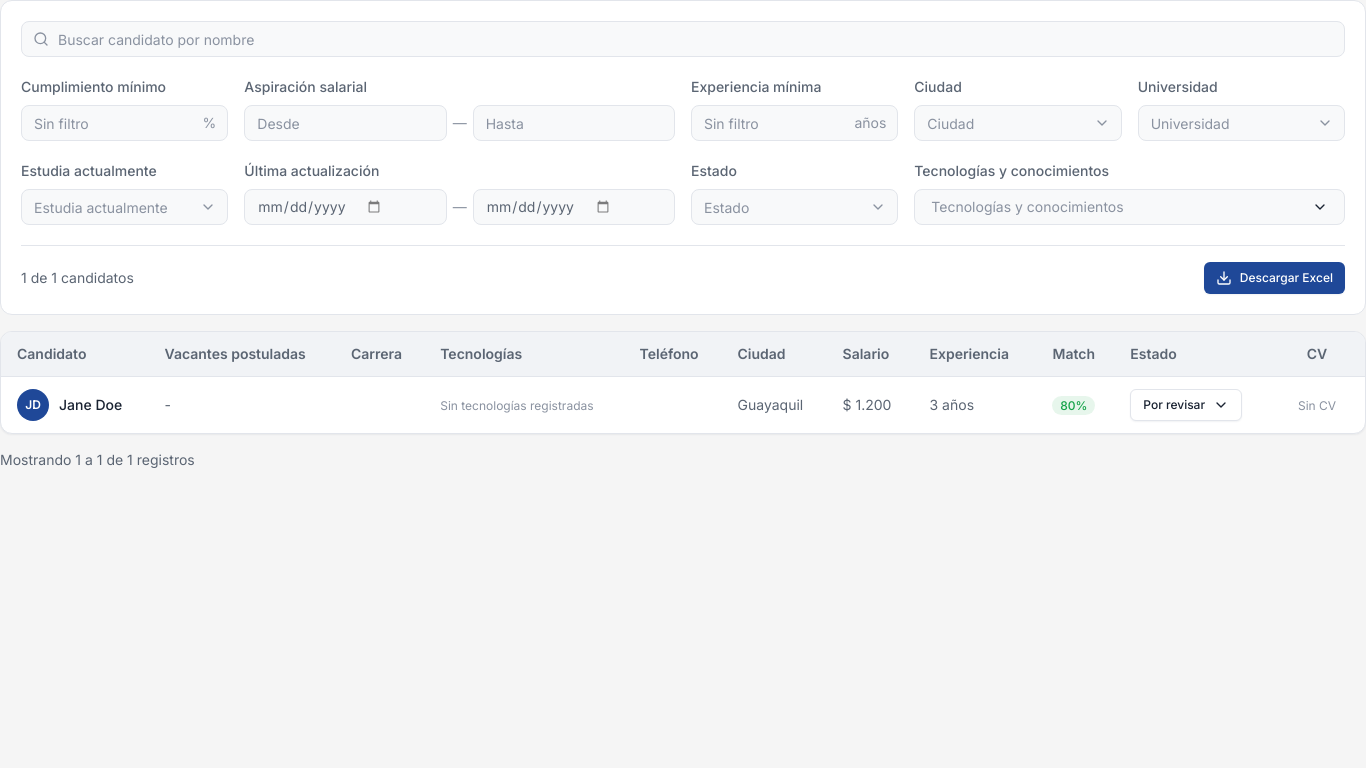
Test: Pipeline table › requires a rejection reason and leaves the stage unchanged on cancel
Click the button with aria-label "Cambiar estado". click: click(1186, 405)
box: top-left (1130, 389), bottom-right (1242, 421)
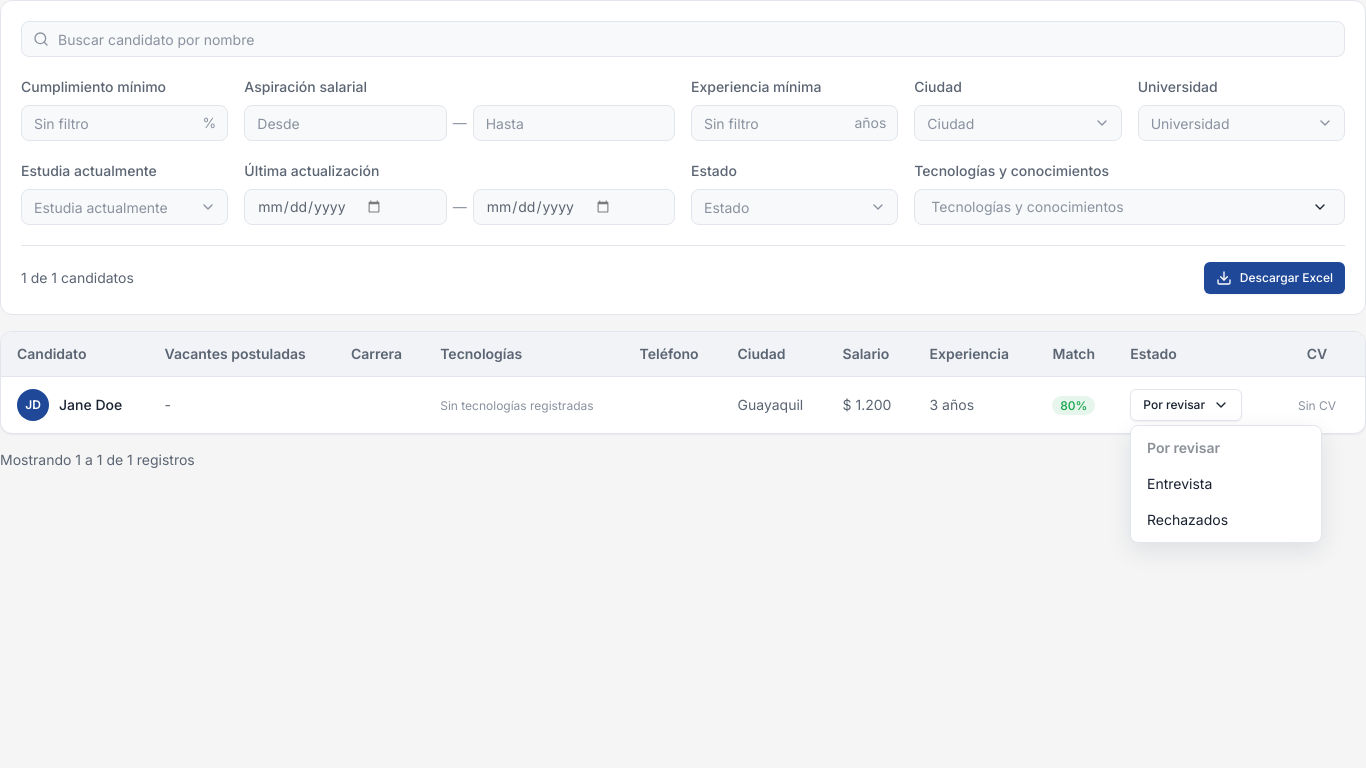
Click the menu item "Rechazados". click: click(1188, 520)
box: top-left (1147, 511), bottom-right (1228, 528)
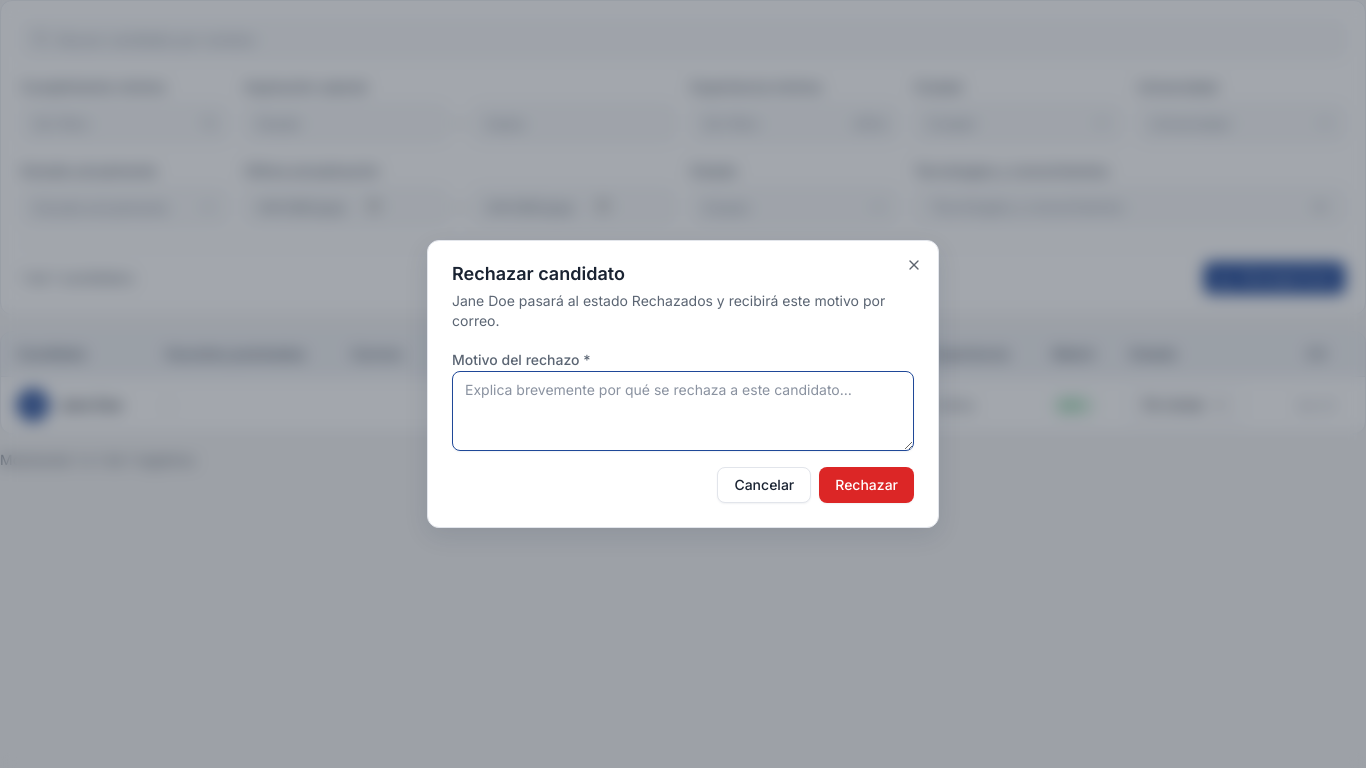
Now the dialog is shown, box top-left (427, 240), bottom-right (939, 528)
Click the button "Cancelar". click: click(764, 485)
box: top-left (717, 467), bottom-right (811, 503)
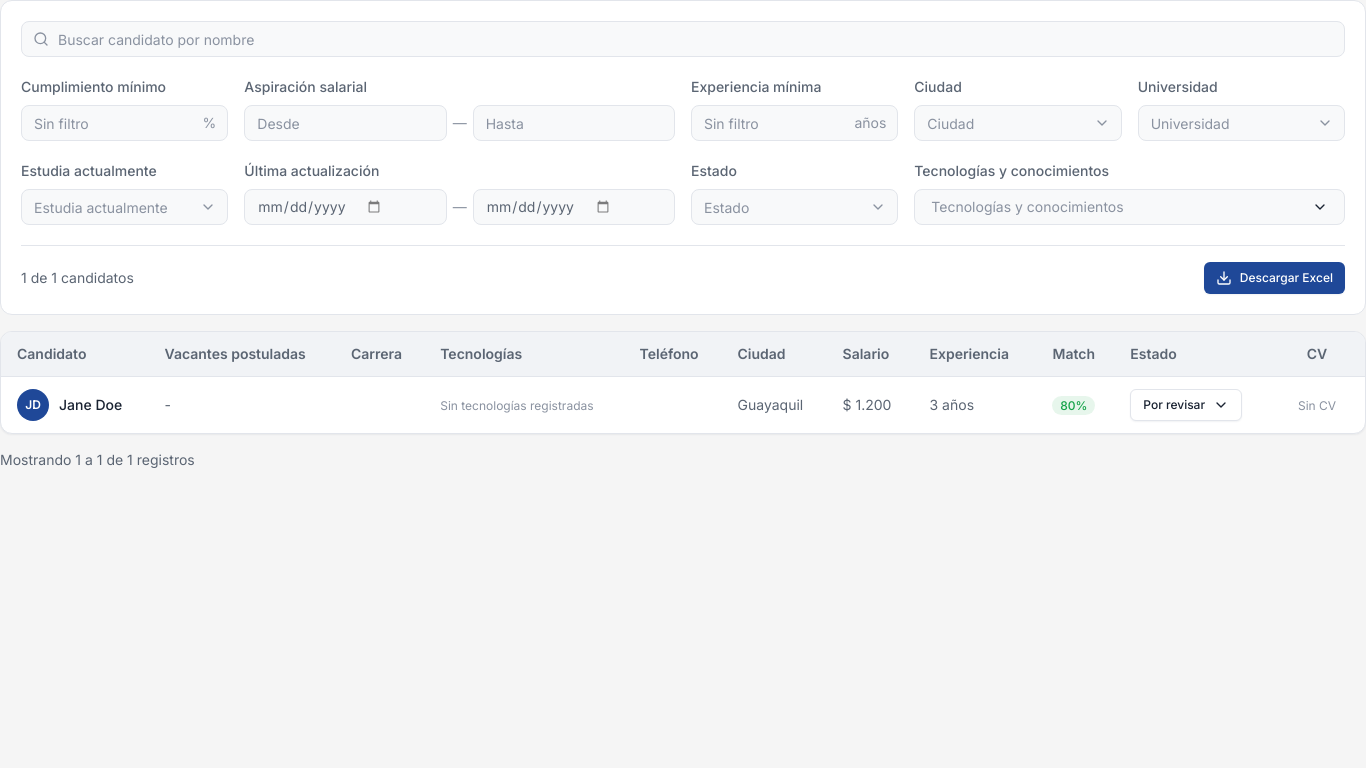
Now the dialog is gone
